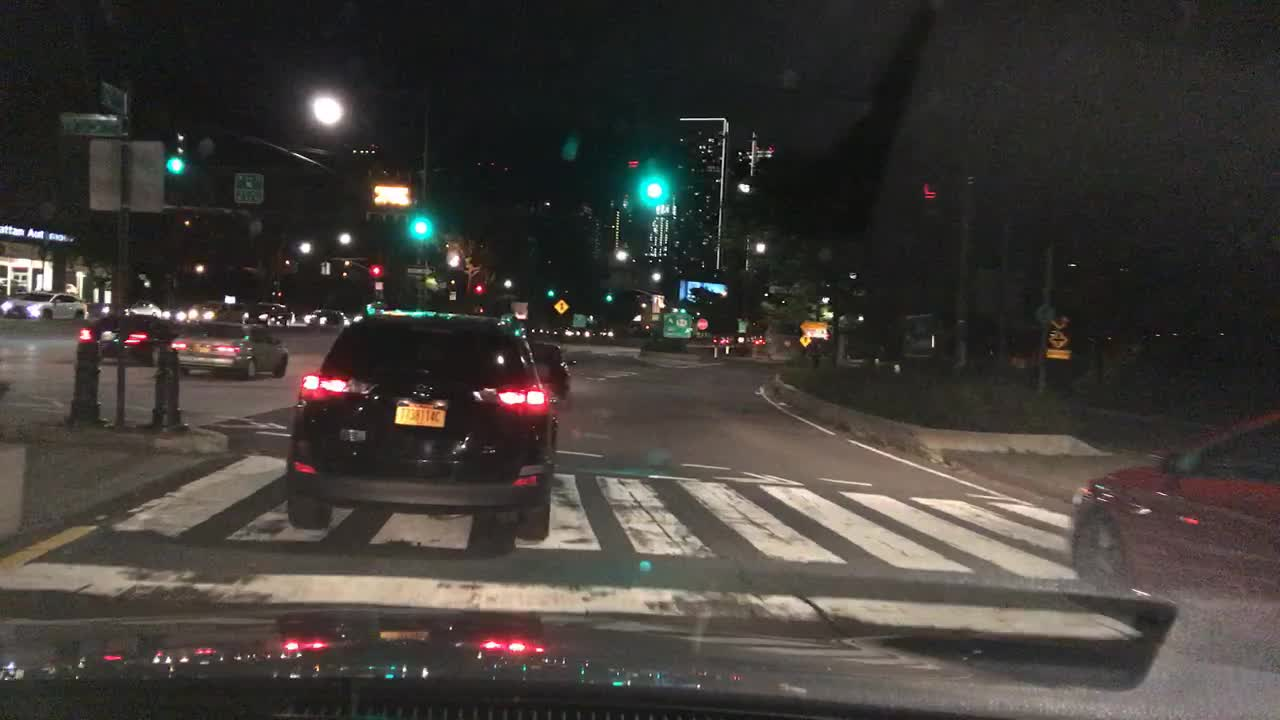car: (285, 309, 559, 543), (1067, 405, 1278, 672), (171, 320, 285, 384), (983, 325, 1091, 385), (77, 313, 178, 369), (525, 335, 578, 402), (1, 290, 89, 323), (761, 331, 831, 355), (838, 339, 893, 364), (187, 301, 242, 323), (118, 299, 160, 318), (159, 307, 187, 323), (710, 331, 739, 344), (340, 311, 362, 327), (748, 331, 769, 345), (597, 327, 619, 338), (97, 302, 114, 315), (564, 324, 583, 335), (582, 326, 599, 338), (546, 324, 562, 335), (526, 324, 544, 333)
traffic light: (644, 171, 661, 201), (411, 212, 430, 238), (167, 152, 186, 176), (370, 263, 383, 279), (545, 286, 555, 299), (604, 290, 613, 304), (321, 259, 329, 274), (475, 281, 482, 293)
traffic sign: (86, 135, 164, 213), (59, 113, 124, 135), (233, 173, 267, 203), (662, 311, 693, 338), (1049, 332, 1070, 347), (1047, 348, 1072, 360), (405, 264, 432, 274), (1049, 312, 1067, 326), (572, 311, 584, 328), (697, 316, 710, 331), (735, 315, 747, 331), (555, 299, 568, 311), (799, 332, 809, 346), (446, 288, 454, 300), (373, 281, 383, 290)
